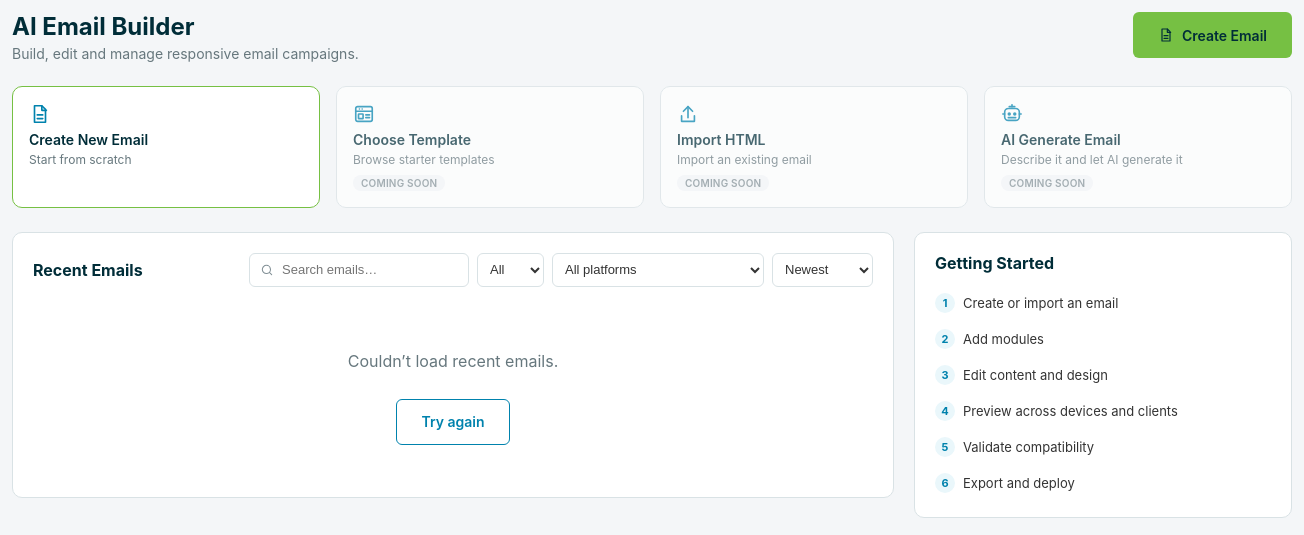
Test: EmailBuilderDashboardPage — states › Try again re-issues the list request
Check: the text "Couldn’t load recent emails." is shown, box x1=348 y1=351 x2=558 y2=371
Step 1. Click the button "Try again" → (453, 422), box x1=396 y1=399 x2=510 y2=445
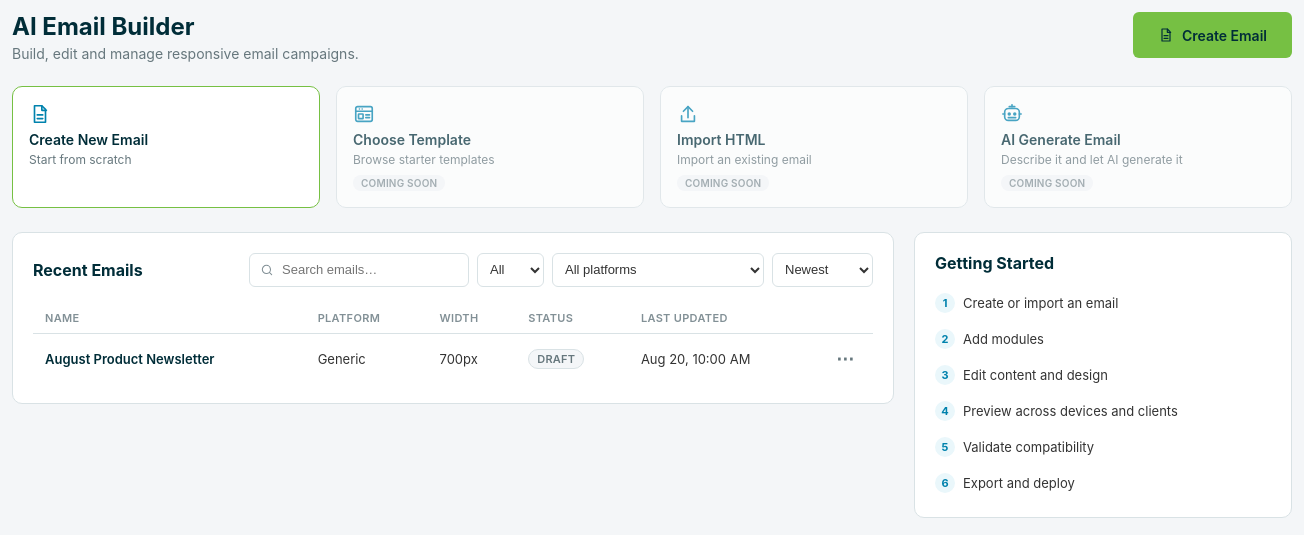
Check: the link "August Product Newsletter" is shown, box x1=45 y1=350 x2=214 y2=366
